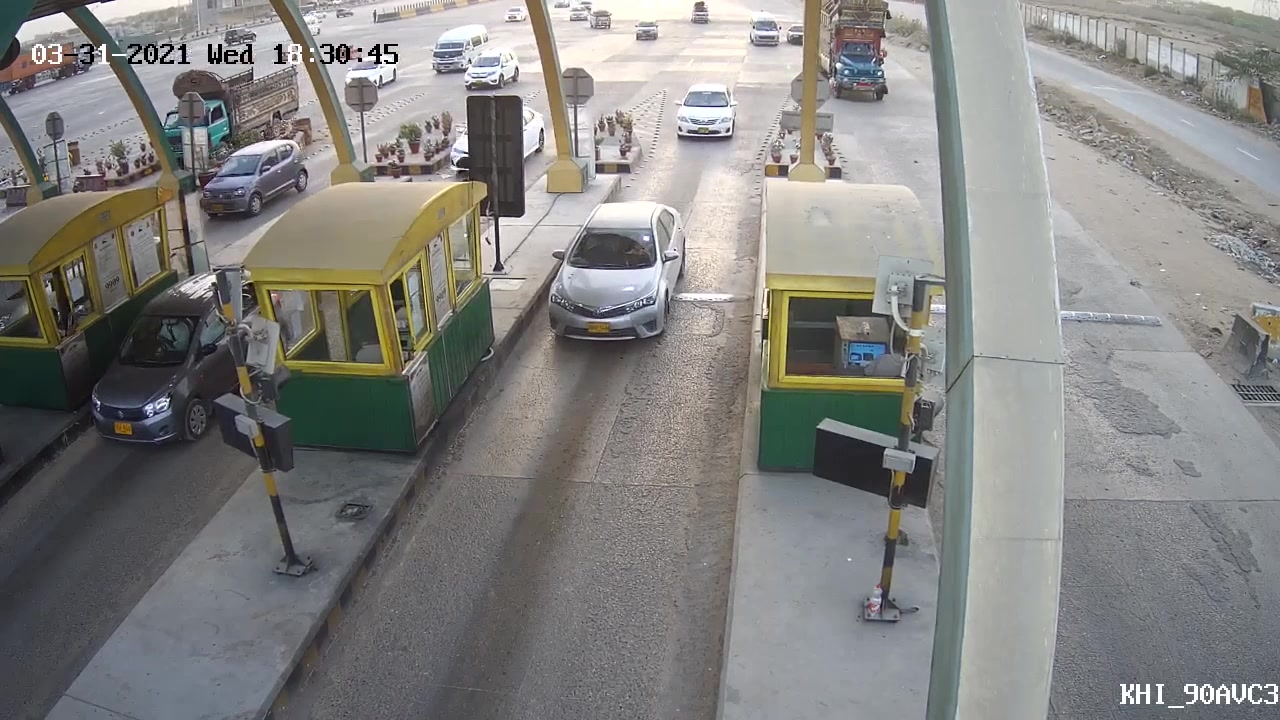F1: (536, 193, 693, 350)
